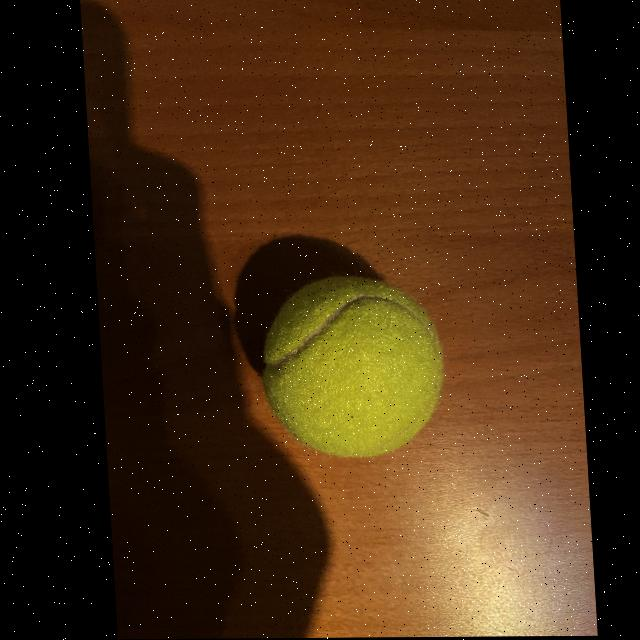Tennisball: (263, 275, 443, 457)
